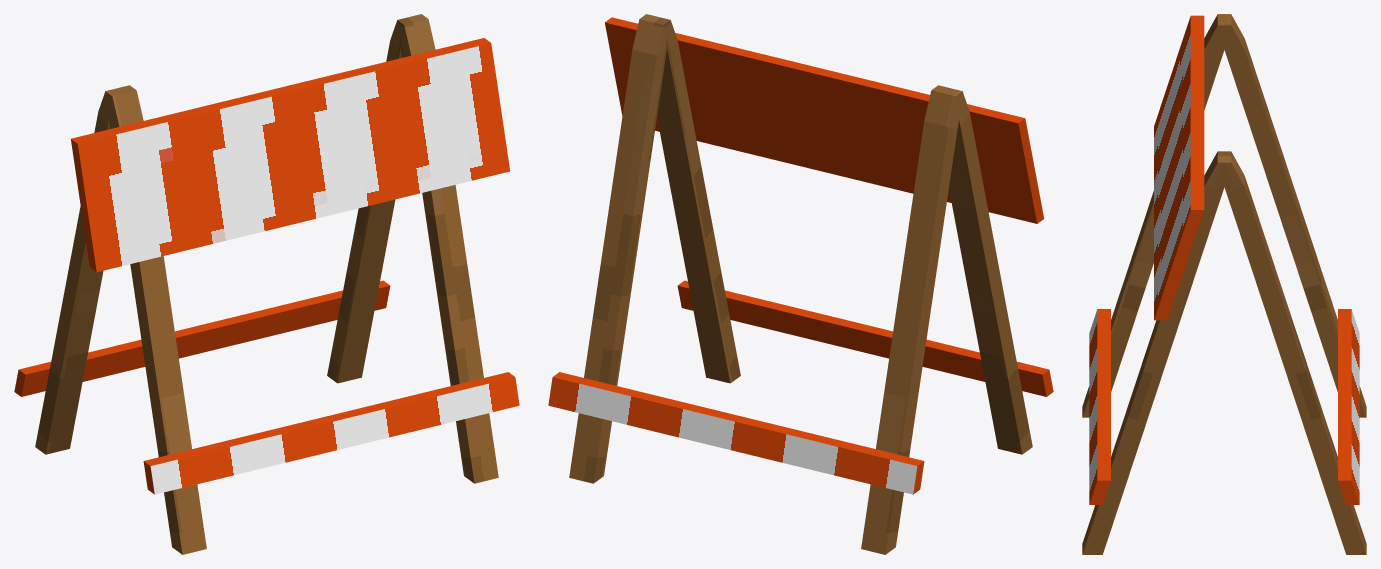
File: Cavalete.fbx
3 views of the same model, side by side, from view 1: azimuth 30°, elevation 25°; view 2: azimuth 150°, elevation 25°; view 3: azimuth 270°, elevation 25° (orthographic). The views are drawn at different scales.
Visible parts, largest first — view 1: Cavalete; view 2: Cavalete; view 3: Cavalete.
Part boxes in pixels (left/top/right/bottom): Cavalete: left=14, top=14, right=519, bottom=554; Cavalete: left=548, top=14, right=1053, bottom=554; Cavalete: left=1082, top=14, right=1366, bottom=554.
Size of the model in its own units: 340 by 320 by 210.
Materials: 1 (1 with a texture image).
